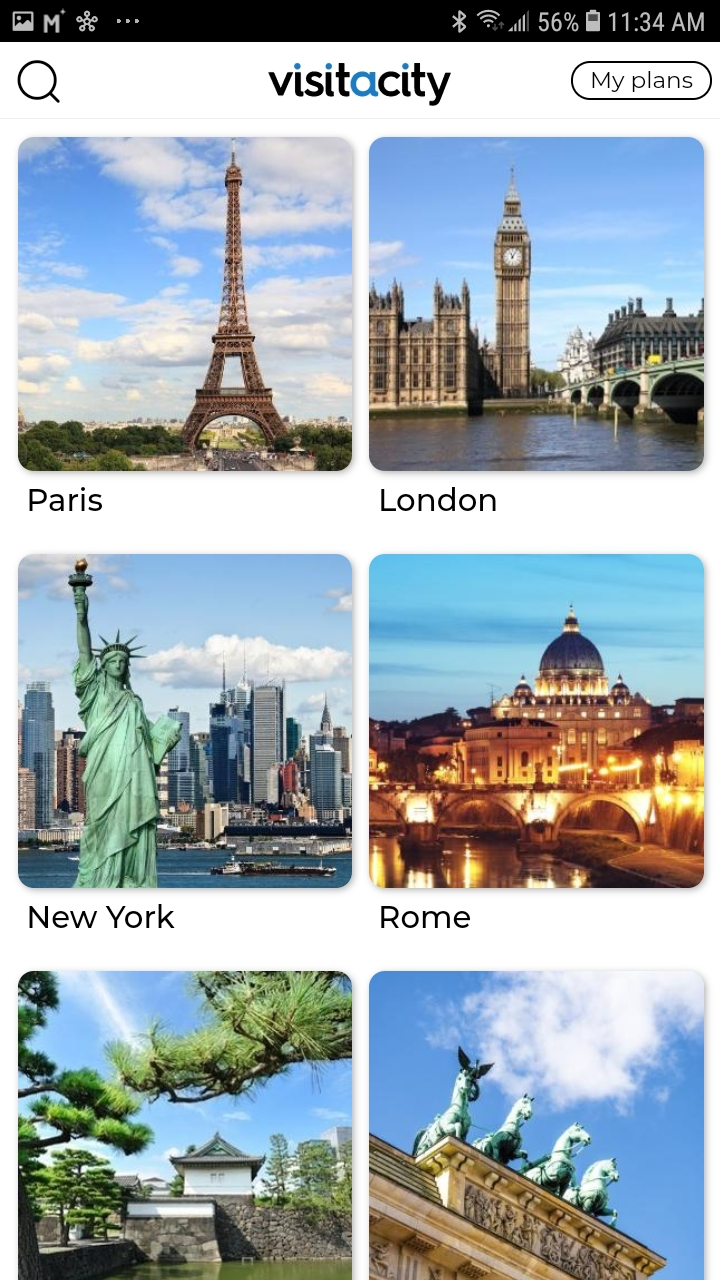Icon: (17, 60, 62, 104)
Image: (369, 137, 704, 472), (19, 137, 353, 472), (19, 554, 353, 889), (369, 554, 704, 888), (369, 971, 704, 1280), (19, 971, 353, 1280), (268, 63, 452, 108)
Text: (29, 903, 176, 929), (381, 487, 497, 512), (381, 906, 471, 929), (29, 487, 103, 513)
TextButton: (571, 62, 713, 102)
UpperTaskBar: (1, 1, 720, 43)
